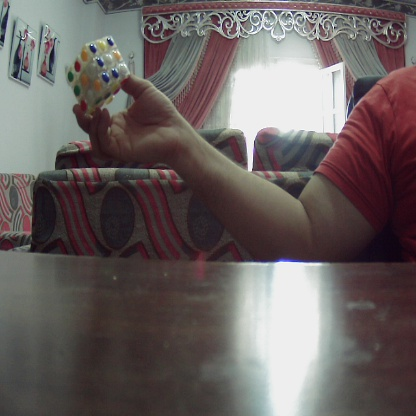Rubix Cube: (67, 39, 127, 103)
